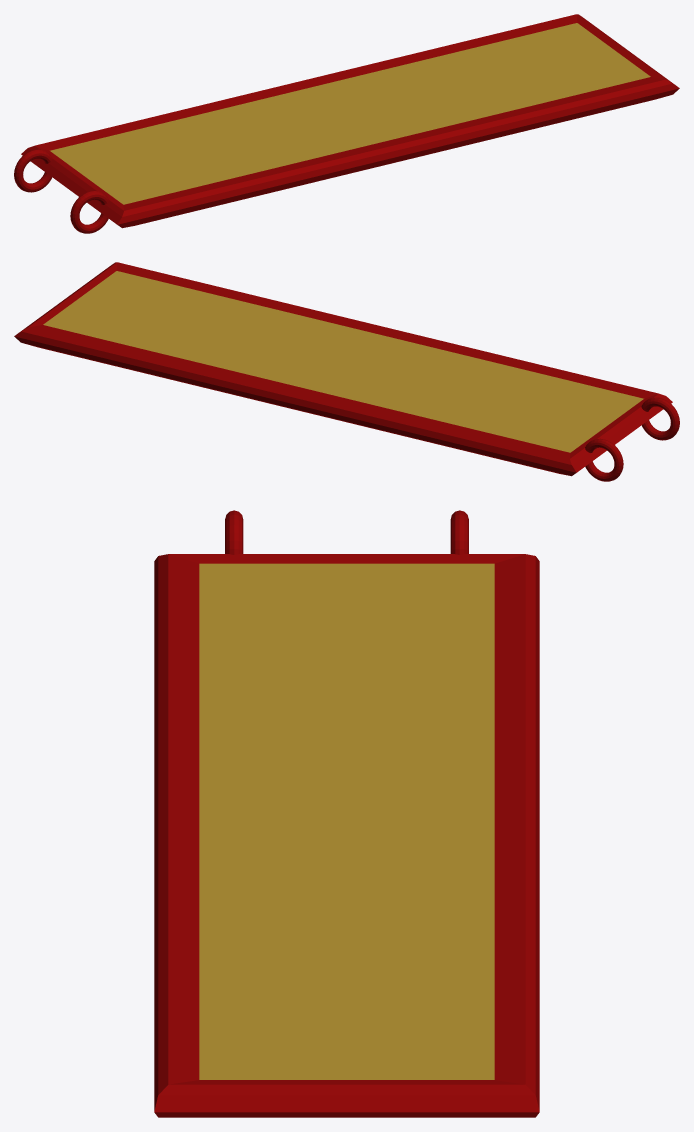
The model's file is ramp_floor.fbx.
The picture shows the model from 3 angles, top to bottom: view 1: azimuth 30°, elevation 25°; view 2: azimuth 150°, elevation 25°; view 3: azimuth 270°, elevation 25°; orthographic projection. The views are drawn at different scales.
Parts seen in each view (by area): view 1: Cube.035; view 2: Cube.035; view 3: Cube.035.
Boxes of the visible parts, box(x1,y1,x2,y2) form: Cube.035: box(14, 14, 679, 233); Cube.035: box(14, 262, 679, 481); Cube.035: box(154, 510, 539, 1117).
Bounding box in the file's own units: 1646 × 111 × 467.
